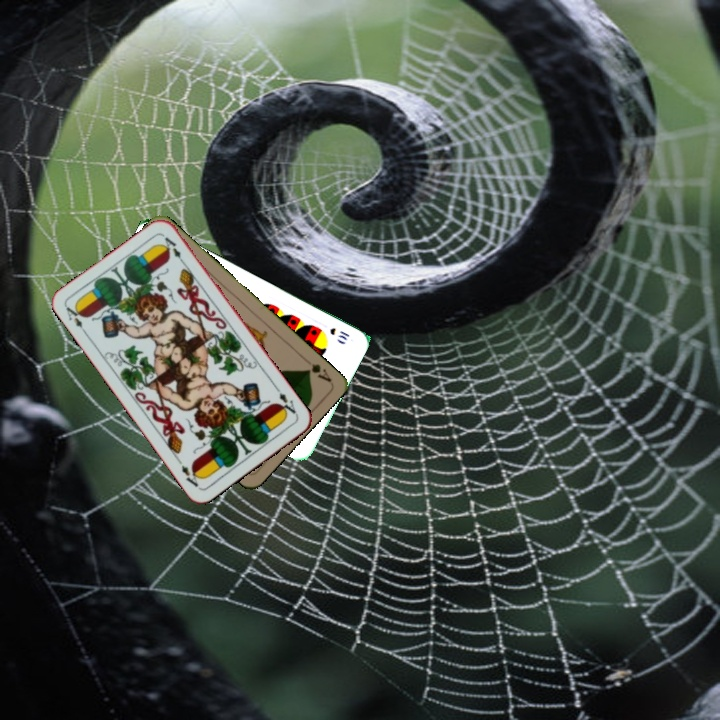EA: (271, 383, 300, 419), (61, 301, 90, 337)
GA: (302, 360, 334, 384)
S10: (326, 324, 352, 343)
